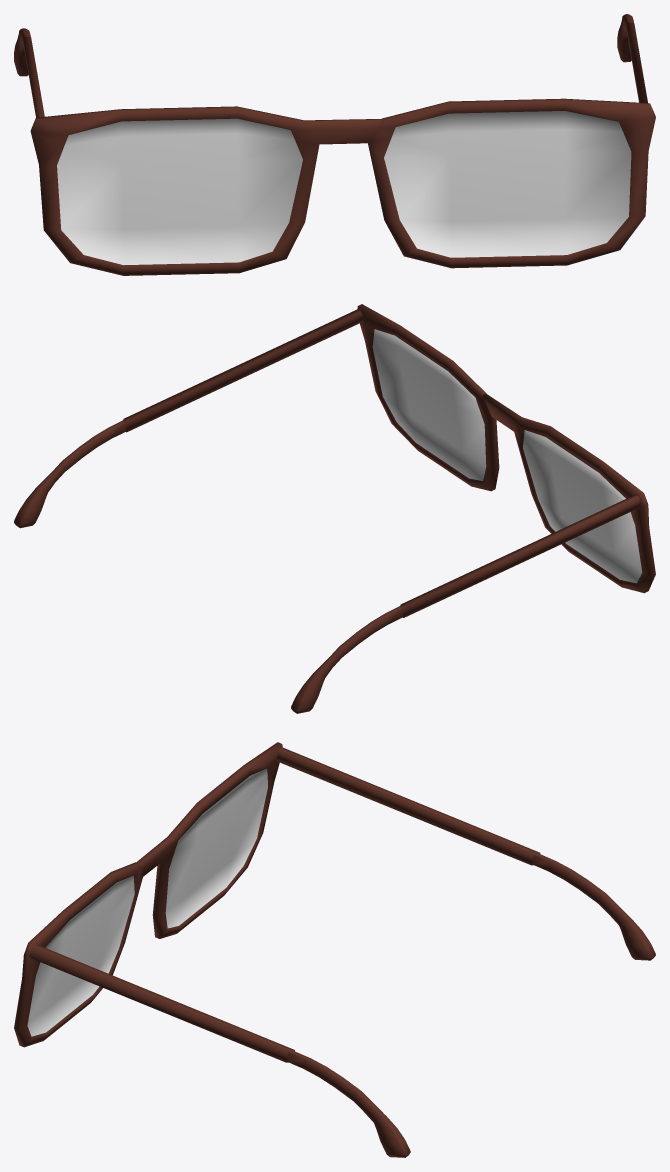
The model's file is SUNGLASS_01.fbx.
3 renders of one model, top to bottom at view 1: azimuth 30°, elevation 25°; view 2: azimuth 150°, elevation 25°; view 3: azimuth 270°, elevation 25°, orthographic. The views are drawn at different scales.
Visible parts, largest first — view 1: SUNGLASS_01; view 2: SUNGLASS_01; view 3: SUNGLASS_01.
Part boxes in pixels (box(x1,y1,x2,y2)): SUNGLASS_01: box(14, 14, 655, 275); SUNGLASS_01: box(14, 304, 655, 713); SUNGLASS_01: box(14, 742, 655, 1157).
Size of the model in its own units: 22.8 by 5.22 by 21.38.
